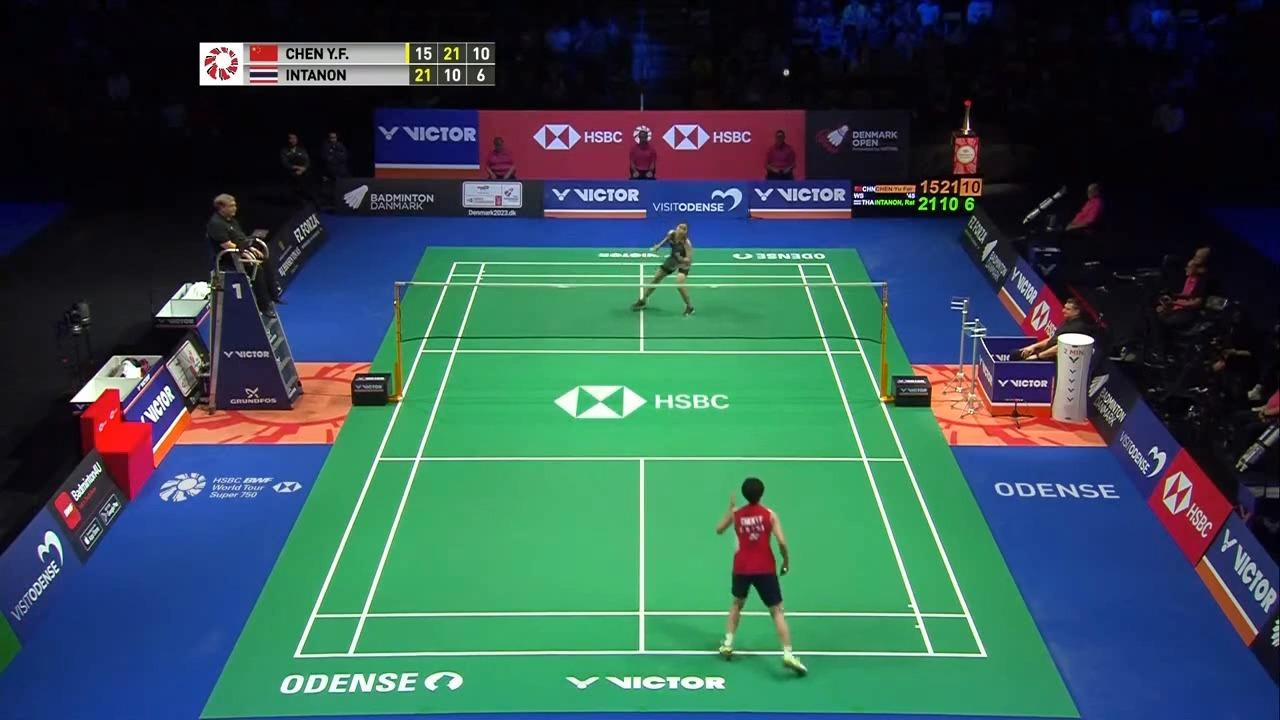shuttle: (781, 66, 794, 78)
